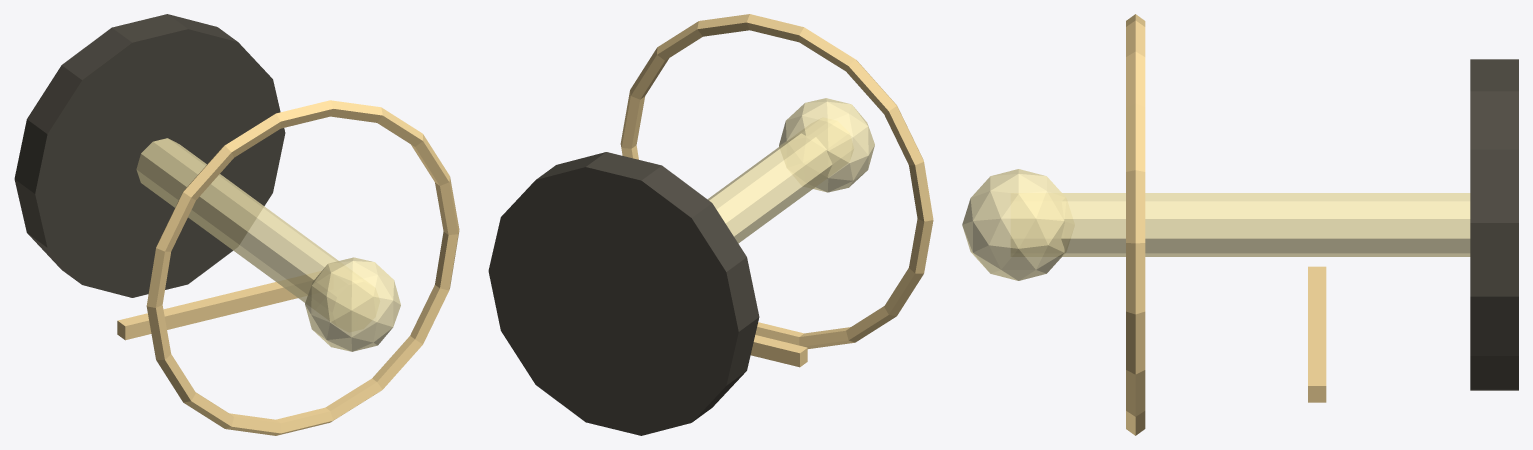
Rendered from 08_support_npc_assist_marker.glb.
3 renders of one model, left to right at view 1: azimuth 30°, elevation 25°; view 2: azimuth 150°, elevation 25°; view 3: azimuth 270°, elevation 25°, orthographic. The views are drawn at different scales.
Parts seen in each view (by area): view 1: assist_beacon_base, support_lock_ring, assist_column, npc_signal_core, support_direction_marker; view 2: assist_beacon_base, support_lock_ring, assist_column, npc_signal_core, support_direction_marker; view 3: assist_column, assist_beacon_base, npc_signal_core, support_lock_ring, support_direction_marker.
Part boxes in pixels (bbox=[...]): assist_beacon_base: bbox=[14, 14, 285, 297]; support_lock_ring: bbox=[146, 100, 459, 435]; assist_column: bbox=[136, 138, 338, 302]; npc_signal_core: bbox=[305, 257, 400, 351]; support_direction_marker: bbox=[117, 271, 320, 340]; assist_beacon_base: bbox=[488, 152, 759, 435]; support_lock_ring: bbox=[620, 14, 933, 348]; assist_column: bbox=[707, 133, 832, 243]; npc_signal_core: bbox=[779, 98, 874, 192]; support_direction_marker: bbox=[750, 335, 807, 367]; assist_column: bbox=[1061, 193, 1470, 256]; assist_beacon_base: bbox=[1470, 59, 1518, 390]; npc_signal_core: bbox=[962, 169, 1065, 280]; support_lock_ring: bbox=[1126, 14, 1145, 435]; support_direction_marker: bbox=[1308, 266, 1326, 402].
Size of the model in its own units: 1.05 by 1.03 by 1.38.
